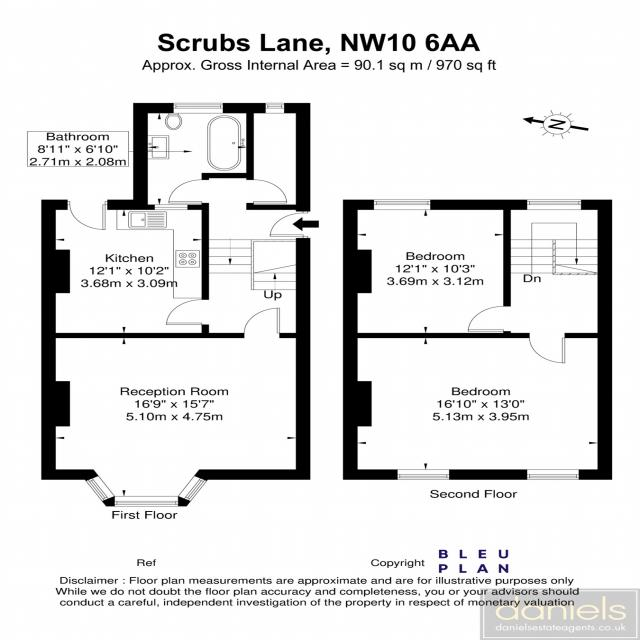DOOR: (527, 332, 567, 364), (466, 305, 512, 332), (165, 299, 210, 326), (68, 200, 107, 231), (243, 307, 281, 338), (245, 178, 288, 204), (168, 179, 210, 204), (269, 212, 309, 237)
ROOM: (41, 306, 312, 508), (342, 333, 613, 481), (40, 199, 210, 339), (342, 199, 511, 339)
WINDOW: (84, 475, 116, 503), (177, 474, 209, 502), (114, 495, 180, 507), (372, 199, 432, 211), (525, 199, 583, 211), (526, 469, 581, 481), (396, 468, 450, 480), (173, 102, 224, 114), (265, 102, 285, 114), (154, 204, 188, 211)
